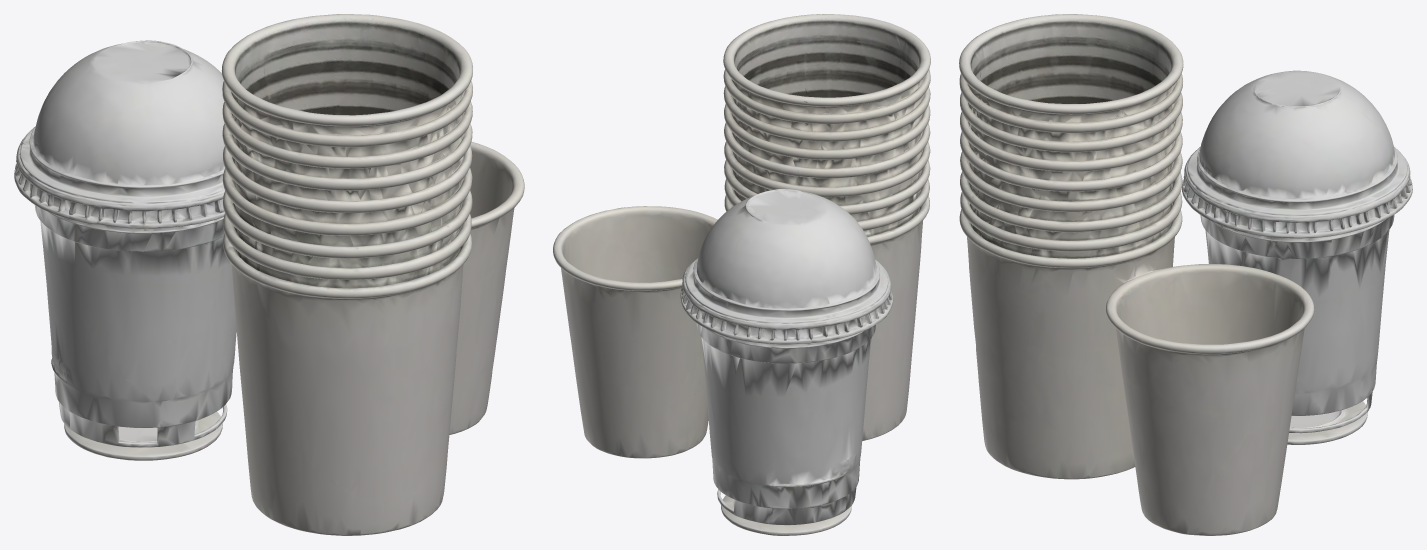
Rendered from vaso.glb.
3 views of the same model, side by side, from view 1: azimuth 30°, elevation 25°; view 2: azimuth 150°, elevation 25°; view 3: azimuth 270°, elevation 25° (orthographic). The views are drawn at different scales.
Visible parts, largest first — view 1: tripo_node_b1808c4e-694a-41f5-89de-442014297dd0; view 2: tripo_node_b1808c4e-694a-41f5-89de-442014297dd0; view 3: tripo_node_b1808c4e-694a-41f5-89de-442014297dd0.
Part boxes in pixels (<box>): tripo_node_b1808c4e-694a-41f5-89de-442014297dd0: <box>14,14,524,535</box>; tripo_node_b1808c4e-694a-41f5-89de-442014297dd0: <box>553,14,930,535</box>; tripo_node_b1808c4e-694a-41f5-89de-442014297dd0: <box>959,14,1412,535</box>.
Size of the model in its own units: 0.9737 by 0.9488 by 0.9999.
1 material, 1 textured.
